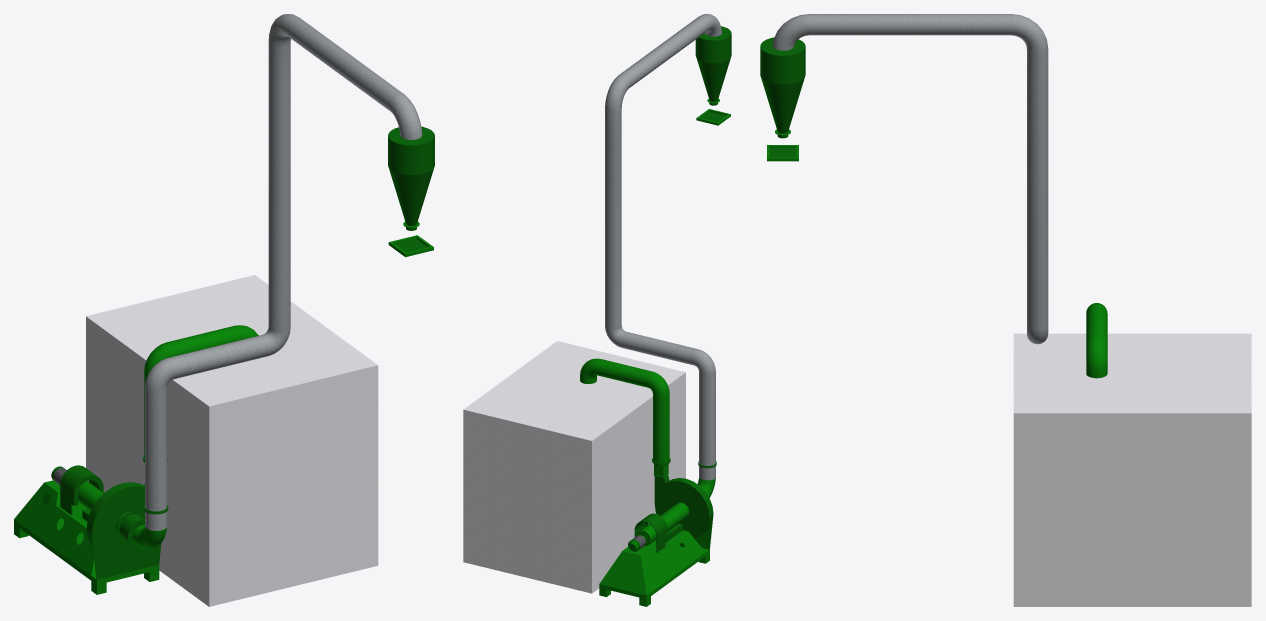
File: 引风机.glb
The picture shows the model from 3 angles, left to right: view 1: azimuth 30°, elevation 25°; view 2: azimuth 150°, elevation 25°; view 3: azimuth 270°, elevation 25°; orthographic projection. The views are drawn at different scales.
Visible parts, largest first — view 1: root; view 2: root; view 3: root.
Boxes of the visible parts, left/top/right/bottom form: root: left=14, top=14, right=434, bottom=606; root: left=463, top=14, right=731, bottom=606; root: left=760, top=14, right=1251, bottom=606.
Bounding box in the file's own units: 5.13 × 11.39 × 9.2.
5 materials, 3 textured.
